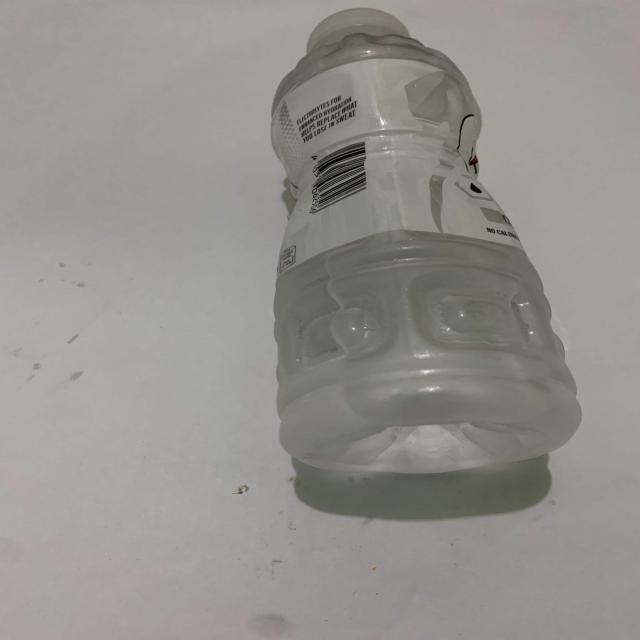bottle: (250, 2, 600, 506)
